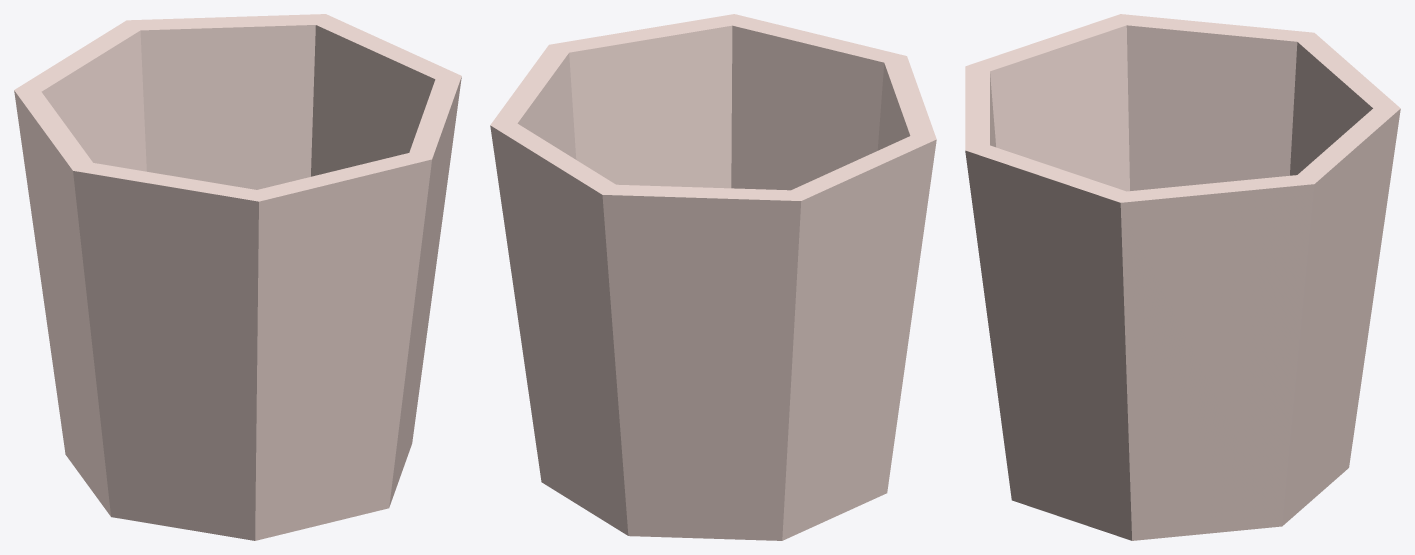
Rendered from trash_small.fbx.
The picture shows the model from 3 angles, left to right: view 1: azimuth 30°, elevation 25°; view 2: azimuth 150°, elevation 25°; view 3: azimuth 270°, elevation 25°; orthographic projection.
Parts seen in each view (by area): view 1: trash_small; view 2: trash_small; view 3: trash_small.
Part boxes in pixels (left/top/right/bottom): trash_small: left=14, top=14, right=461, bottom=540; trash_small: left=490, top=14, right=936, bottom=540; trash_small: left=965, top=14, right=1400, bottom=540.
Size of the model in its own units: 50.25 by 51.54 by 45.74.
